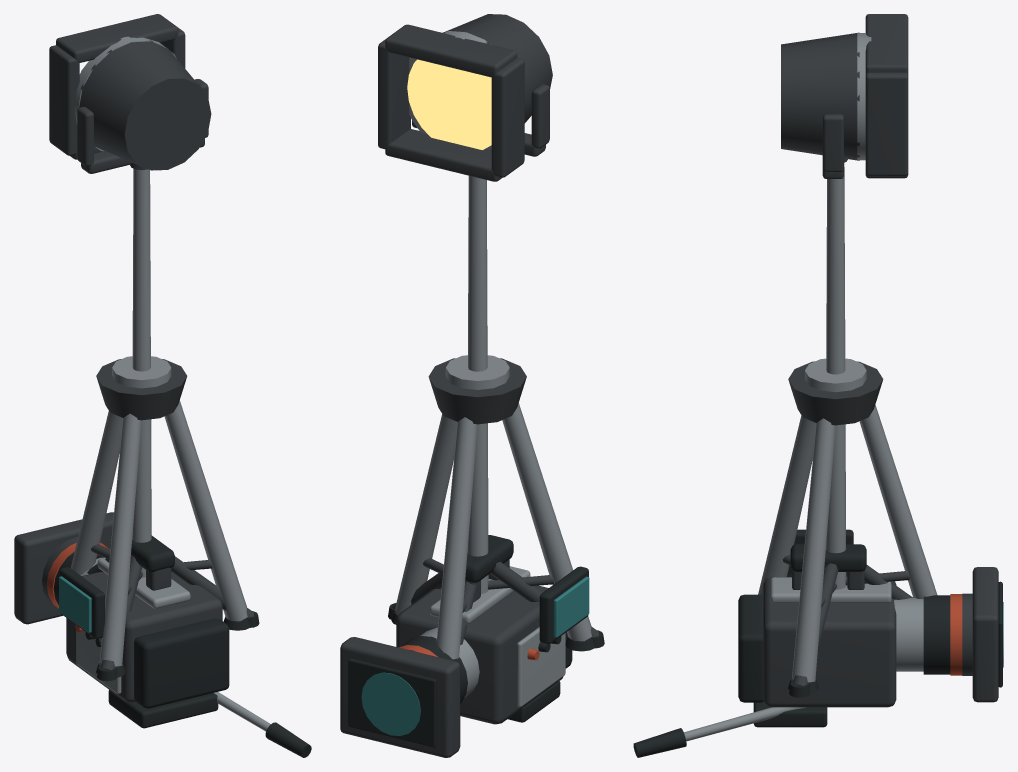
Rendered from stage_equipment.glb.
3 renders of one model, left to right at view 1: azimuth 30°, elevation 25°; view 2: azimuth 150°, elevation 25°; view 3: azimuth 270°, elevation 25°, orthographic. The views are drawn at different scales.
Visible parts, largest first — view 1: CinemaCameraBody, StudioLight, CameraTripodBase, LightStand; view 2: CinemaCameraBody, StudioLight, CameraTripodBase, LightStand; view 3: CinemaCameraBody, CameraTripodBase, StudioLight, LightStand.
Part boxes in pixels (x1,y1,x2,y2): CinemaCameraBody: [14, 512, 311, 757]; StudioLight: [49, 14, 211, 173]; CameraTripodBase: [71, 356, 250, 677]; LightStand: [87, 163, 259, 681]; CinemaCameraBody: [340, 535, 589, 757]; StudioLight: [378, 14, 552, 181]; CameraTripodBase: [391, 355, 594, 659]; LightStand: [388, 175, 604, 648]; CinemaCameraBody: [633, 529, 1003, 757]; CameraTripodBase: [758, 358, 937, 693]; StudioLight: [781, 14, 908, 178]; LightStand: [787, 158, 912, 697].
Size of the model in its own units: 0.9062 by 3.17 by 1.56.
